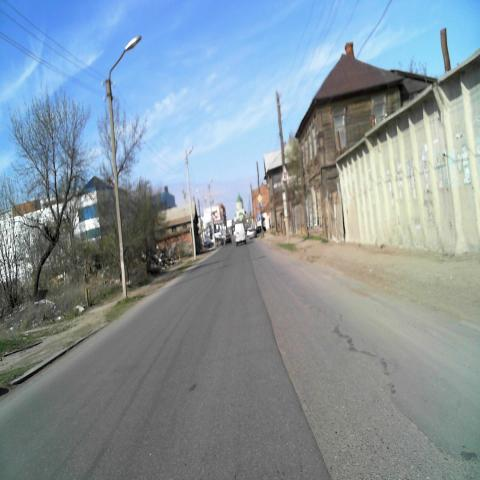1_21: (280, 164, 290, 182)
